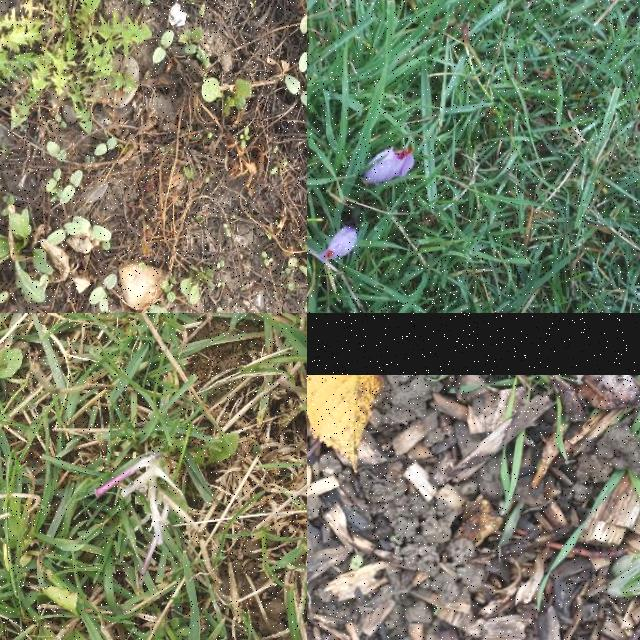flower: (365, 148, 415, 186), (326, 228, 358, 260)
